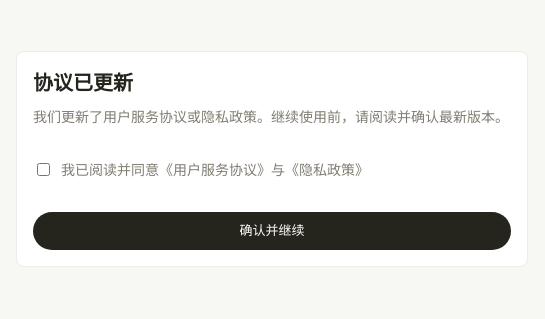
Scenario: LegalReacceptanceGate › shows error when submit fails
Expected: the heading "协议已更新" is shown, [33,71,133,95]
Click the checkbox at (44, 170), box [37,163,50,176]
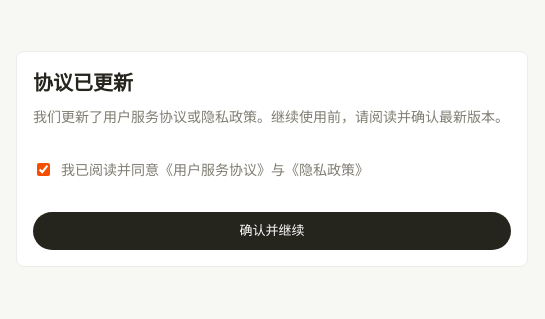
Click the button "确认并继续" at (272, 231), box [33,212,511,250]
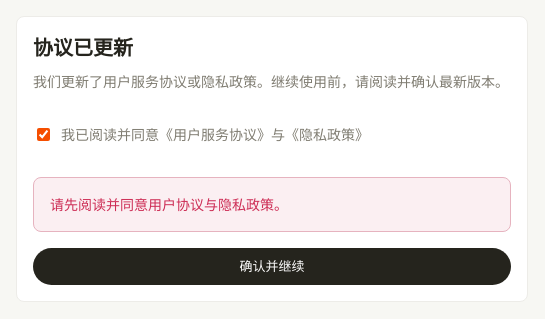
Expected: the text "请先阅读并同意用户协议与隐私政策。" is shown, [33,177,511,232]
